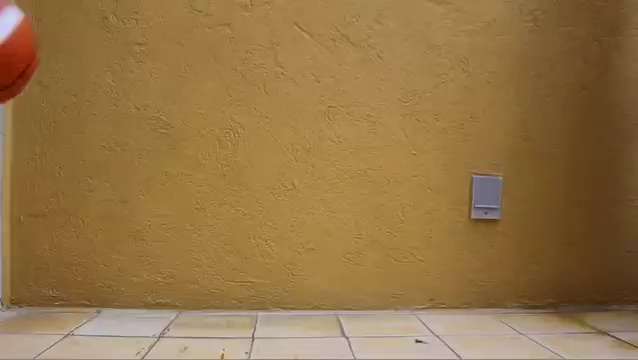ball: (1, 3, 40, 105)
